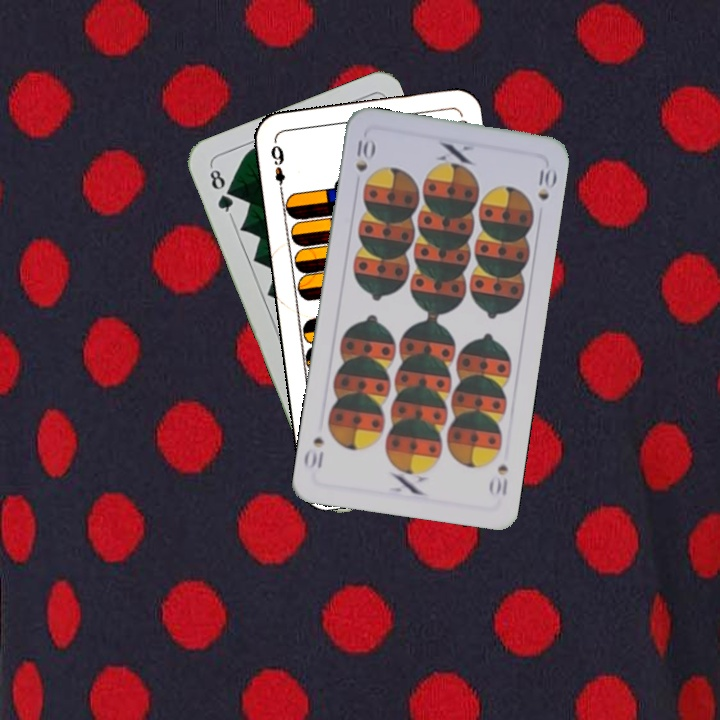E9: (266, 138, 288, 197)
G8: (205, 162, 236, 219)
S10: (485, 460, 511, 499), (352, 135, 376, 175)
